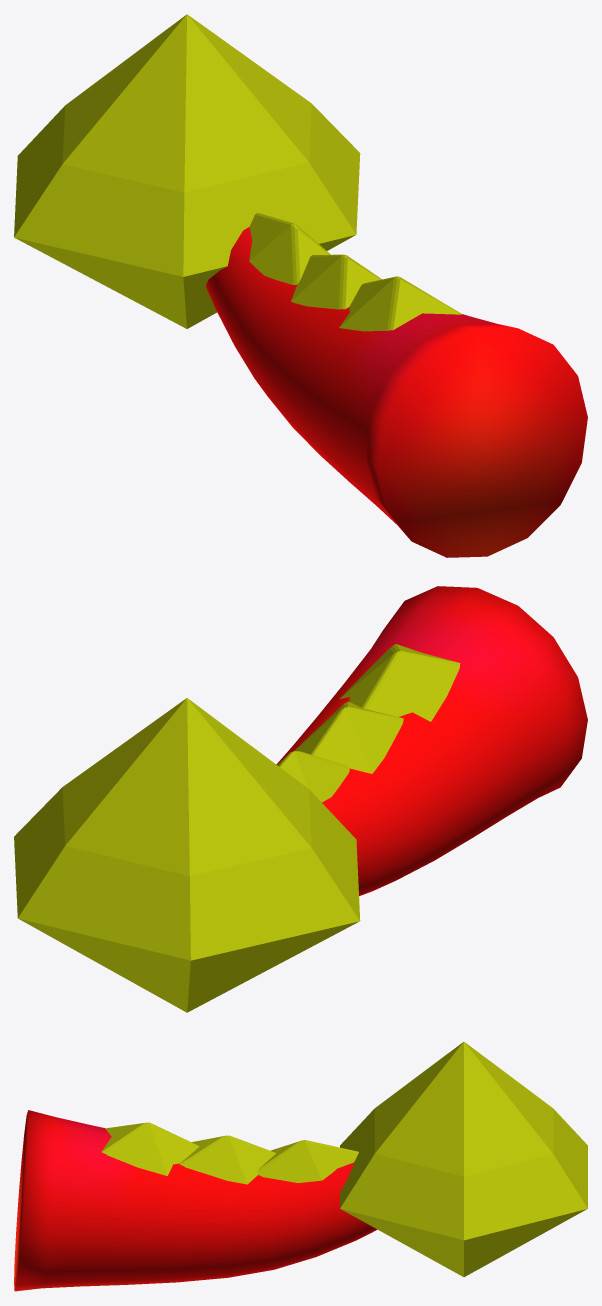
The model's file is GXR_TAIL_03_HEAVY.glb.
3 views of the same model, one above another, from view 1: azimuth 30°, elevation 25°; view 2: azimuth 150°, elevation 25°; view 3: azimuth 270°, elevation 25° (orthographic). The views are drawn at different scales.
Visible parts, largest first — view 1: Mesh_Club, Mesh_Tail_surface.001, Mesh_Tail_Overlapping_Scale.003, Mesh_Tail_Overlapping_Scale.005, Mesh_Tail_Overlapping_Scale.004; view 2: Mesh_Club, Mesh_Tail_surface.001, Mesh_Tail_Overlapping_Scale.003, Mesh_Tail_Overlapping_Scale.004, Mesh_Tail_Overlapping_Scale.005; view 3: Mesh_Tail_surface.001, Mesh_Club, Mesh_Tail_Overlapping_Scale.003, Mesh_Tail_Overlapping_Scale.004, Mesh_Tail_Overlapping_Scale.005.
Boxes of the visible parts, x1,y1,x2,y2 form: Mesh_Club: (14, 14, 360, 328); Mesh_Tail_surface.001: (205, 227, 587, 557); Mesh_Tail_Overlapping_Scale.003: (339, 276, 462, 331); Mesh_Tail_Overlapping_Scale.005: (249, 213, 330, 284); Mesh_Tail_Overlapping_Scale.004: (291, 254, 381, 309); Mesh_Club: (14, 698, 360, 1012); Mesh_Tail_surface.001: (276, 586, 587, 896); Mesh_Tail_Overlapping_Scale.003: (339, 644, 460, 721); Mesh_Tail_Overlapping_Scale.004: (294, 701, 403, 773); Mesh_Tail_Overlapping_Scale.005: (277, 751, 349, 802); Mesh_Tail_surface.001: (14, 1110, 377, 1291); Mesh_Club: (340, 1042, 587, 1276); Mesh_Tail_Overlapping_Scale.003: (101, 1122, 199, 1175); Mesh_Tail_Overlapping_Scale.004: (179, 1135, 275, 1184); Mesh_Tail_Overlapping_Scale.005: (258, 1140, 358, 1182).
Size of the model in its own units: 0.23 by 0.2048 by 0.441.
